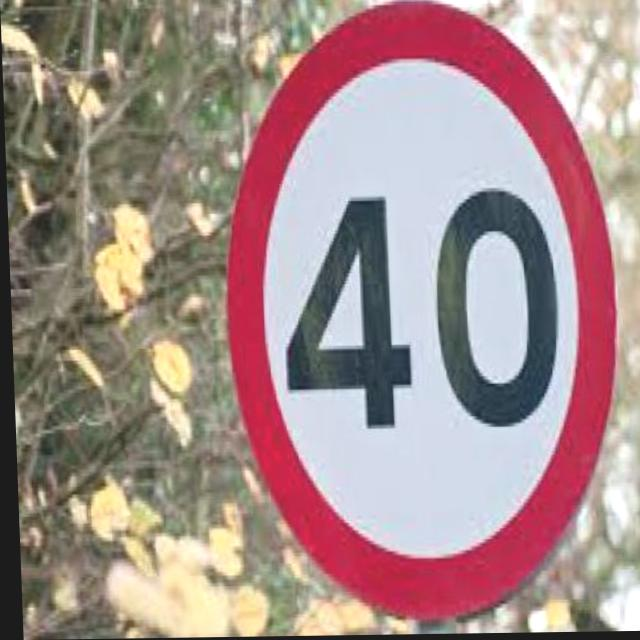limit40: (216, 0, 627, 628)
